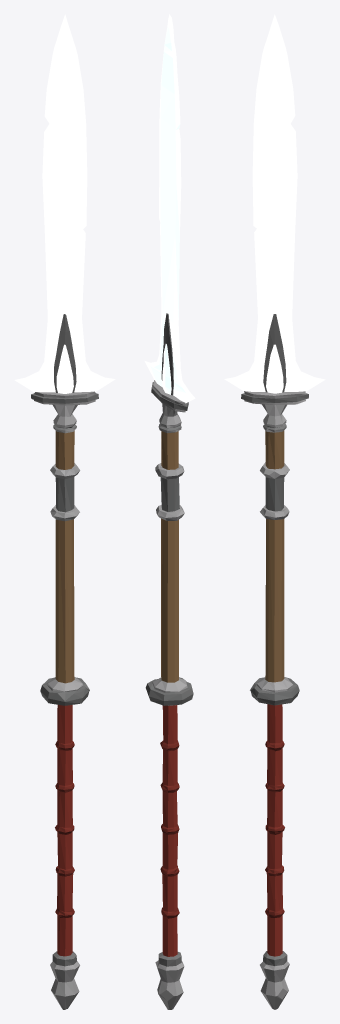
File: SFFA_Weapon_Spear_Runical_001.fbx
The picture shows the model from 3 angles, left to right: view 1: azimuth 90°, elevation 25°; view 2: azimuth 210°, elevation 25°; view 3: azimuth 270°, elevation 25°; orthographic projection.
Visible parts, largest first — view 1: SFFA_Weapon_Spear_Runical_001; view 2: SFFA_Weapon_Spear_Runical_001; view 3: SFFA_Weapon_Spear_Runical_001.
Boxes of the visible parts, x1,y1,x2,y2 form: SFFA_Weapon_Spear_Runical_001: (14, 14, 115, 1009); SFFA_Weapon_Spear_Runical_001: (144, 14, 195, 1009); SFFA_Weapon_Spear_Runical_001: (224, 14, 325, 1009).
Bounding box in the file's own units: 8.5 × 188 × 17.38.
